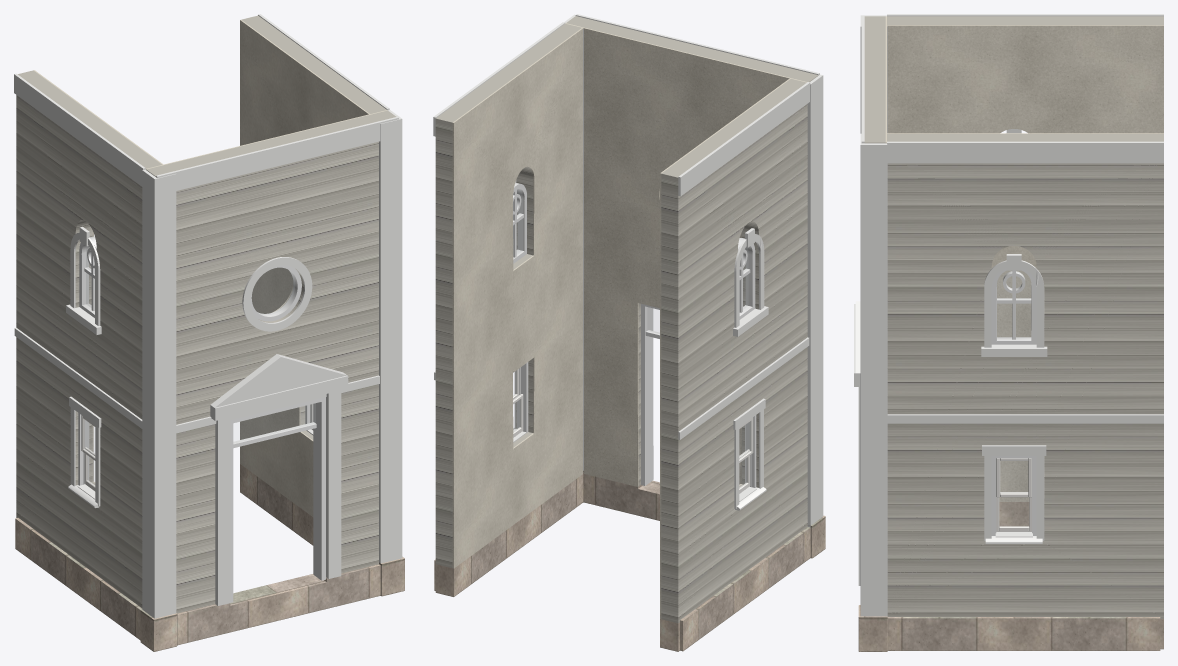
File: tower_base.glb
3 views of the same model, side by side, from view 1: azimuth 30°, elevation 25°; view 2: azimuth 150°, elevation 25°; view 3: azimuth 270°, elevation 25° (orthographic). The views are drawn at different scales.
Parts seen in each view (by area): view 1: tower_base_siding, tower_base_trim, tower_base_stone, tower_base_plaster, tower_base_frame, tower_base_glass; view 2: tower_base_plaster, tower_base_siding, tower_base_trim, tower_base_stone, tower_base_frame, tower_base_glass, tower_base_sash; view 3: tower_base_siding, tower_base_plaster, tower_base_trim, tower_base_stone, tower_base_glass, tower_base_frame, tower_base_sash.
Boxes of the visible parts, x1,y1,x2,y2 form: tower_base_siding: (16, 15, 396, 613); tower_base_trim: (14, 14, 402, 618); tower_base_stone: (15, 464, 404, 651); tower_base_plaster: (34, 20, 387, 516); tower_base_frame: (78, 236, 325, 602); tower_base_glass: (84, 246, 315, 484); tower_base_plaster: (452, 23, 807, 618); tower_base_siding: (435, 16, 818, 623); tower_base_trim: (433, 14, 823, 527); tower_base_stone: (434, 471, 825, 651); tower_base_frame: (513, 182, 756, 487); tower_base_glass: (513, 189, 750, 486); tower_base_sash: (513, 368, 753, 493); tower_base_siding: (864, 16, 1163, 618); tower_base_plaster: (885, 16, 1163, 501); tower_base_trim: (854, 14, 1163, 616); tower_base_stone: (858, 502, 1163, 651); tower_base_glass: (997, 271, 1030, 525); tower_base_frame: (991, 268, 1036, 535); tower_base_sash: (996, 458, 1031, 531).
Bounding box in the file's own units: 4.16 × 7.49 × 4.14.
7 materials, 3 textured.
